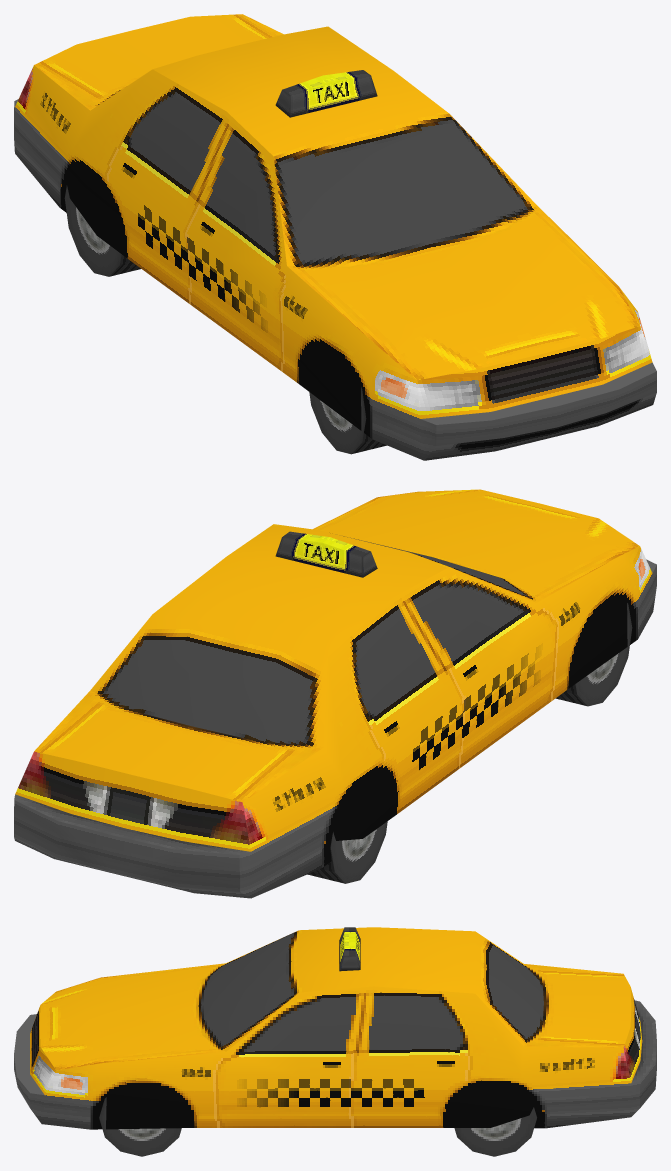
File: taxi.glb
3 renders of one model, top to bottom at view 1: azimuth 30°, elevation 25°; view 2: azimuth 150°, elevation 25°; view 3: azimuth 270°, elevation 25°, orthographic. The views are drawn at different scales.
Parts seen in each view (by area): view 1: Car Body_0, Taxi Sign_1, Wheel RR_2, Wheel FR_4; view 2: Car Body_0, Taxi Sign_1, Wheel RR_2, Wheel FR_4; view 3: Car Body_0, Wheel RL_5, Wheel FL_3, Taxi Sign_1.
Boxes of the visible parts, left/top/right/bottom form: Car Body_0: left=14, top=14, right=656, bottom=460; Taxi Sign_1: left=275, top=70, right=377, bottom=117; Wheel RR_2: left=64, top=185, right=140, bottom=276; Wheel FR_4: left=309, top=387, right=386, bottom=454; Car Body_0: left=14, top=489, right=656, bottom=898; Taxi Sign_1: left=275, top=531, right=377, bottom=577; Wheel RR_2: left=307, top=821, right=387, bottom=883; Wheel FR_4: left=555, top=603, right=632, bottom=706; Car Body_0: left=14, top=927, right=656, bottom=1129; Wheel RL_5: left=454, top=1107, right=536, bottom=1156; Wheel FL_3: left=99, top=1097, right=181, bottom=1156; Taxi Sign_1: left=339, top=927, right=360, bottom=971.
Bounding box in the file's own units: 0.9784 × 0.7925 × 2.7.
1 material, 1 textured.
